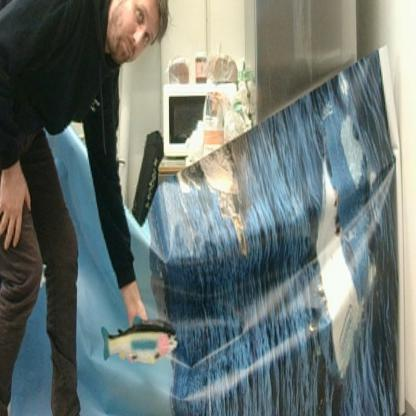rubberfish: (100, 314, 181, 368)
